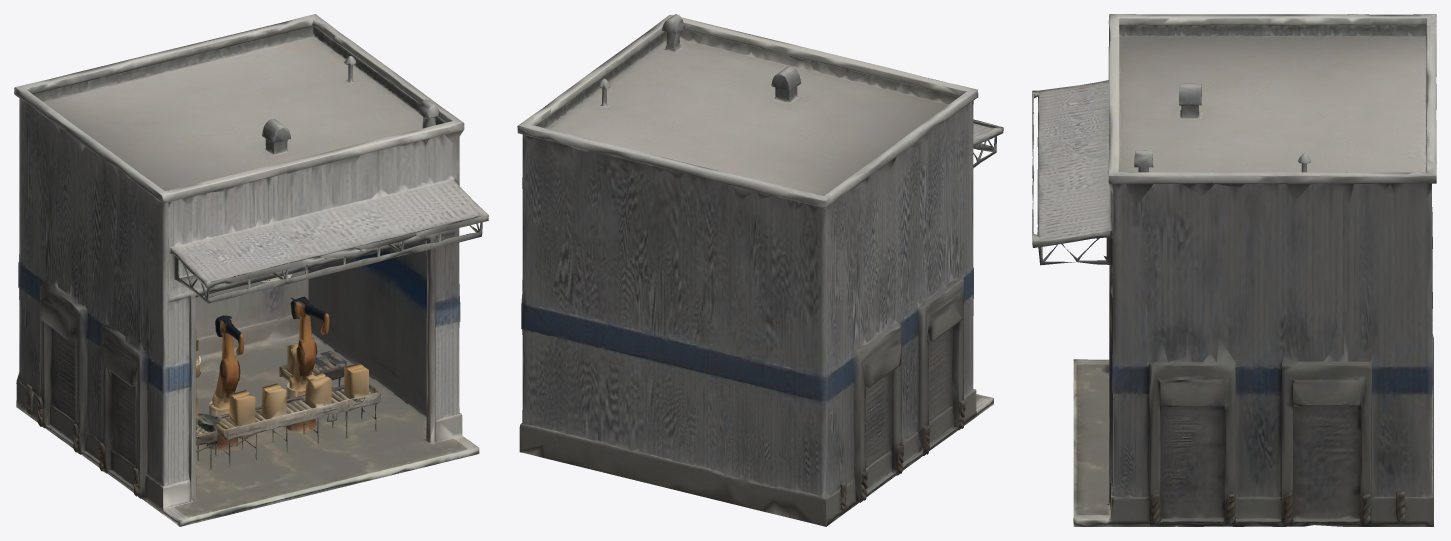
File: fabrica_aberta.glb
3 views of the same model, side by side, from view 1: azimuth 30°, elevation 25°; view 2: azimuth 150°, elevation 25°; view 3: azimuth 270°, elevation 25° (orthographic). The views are drawn at different scales.
Visible parts, largest first — view 1: tripo_node_44be4a62-0b5a-4620-b5f8-14c3383387ff; view 2: tripo_node_44be4a62-0b5a-4620-b5f8-14c3383387ff; view 3: tripo_node_44be4a62-0b5a-4620-b5f8-14c3383387ff.
Part boxes in pixels (x1,y1,x2,y2): tripo_node_44be4a62-0b5a-4620-b5f8-14c3383387ff: [14, 14, 488, 526]; tripo_node_44be4a62-0b5a-4620-b5f8-14c3383387ff: [517, 14, 1003, 526]; tripo_node_44be4a62-0b5a-4620-b5f8-14c3383387ff: [1032, 14, 1436, 526].
Bounding box in the file's own units: 1 × 1 × 1.
1 material, 1 textured.
